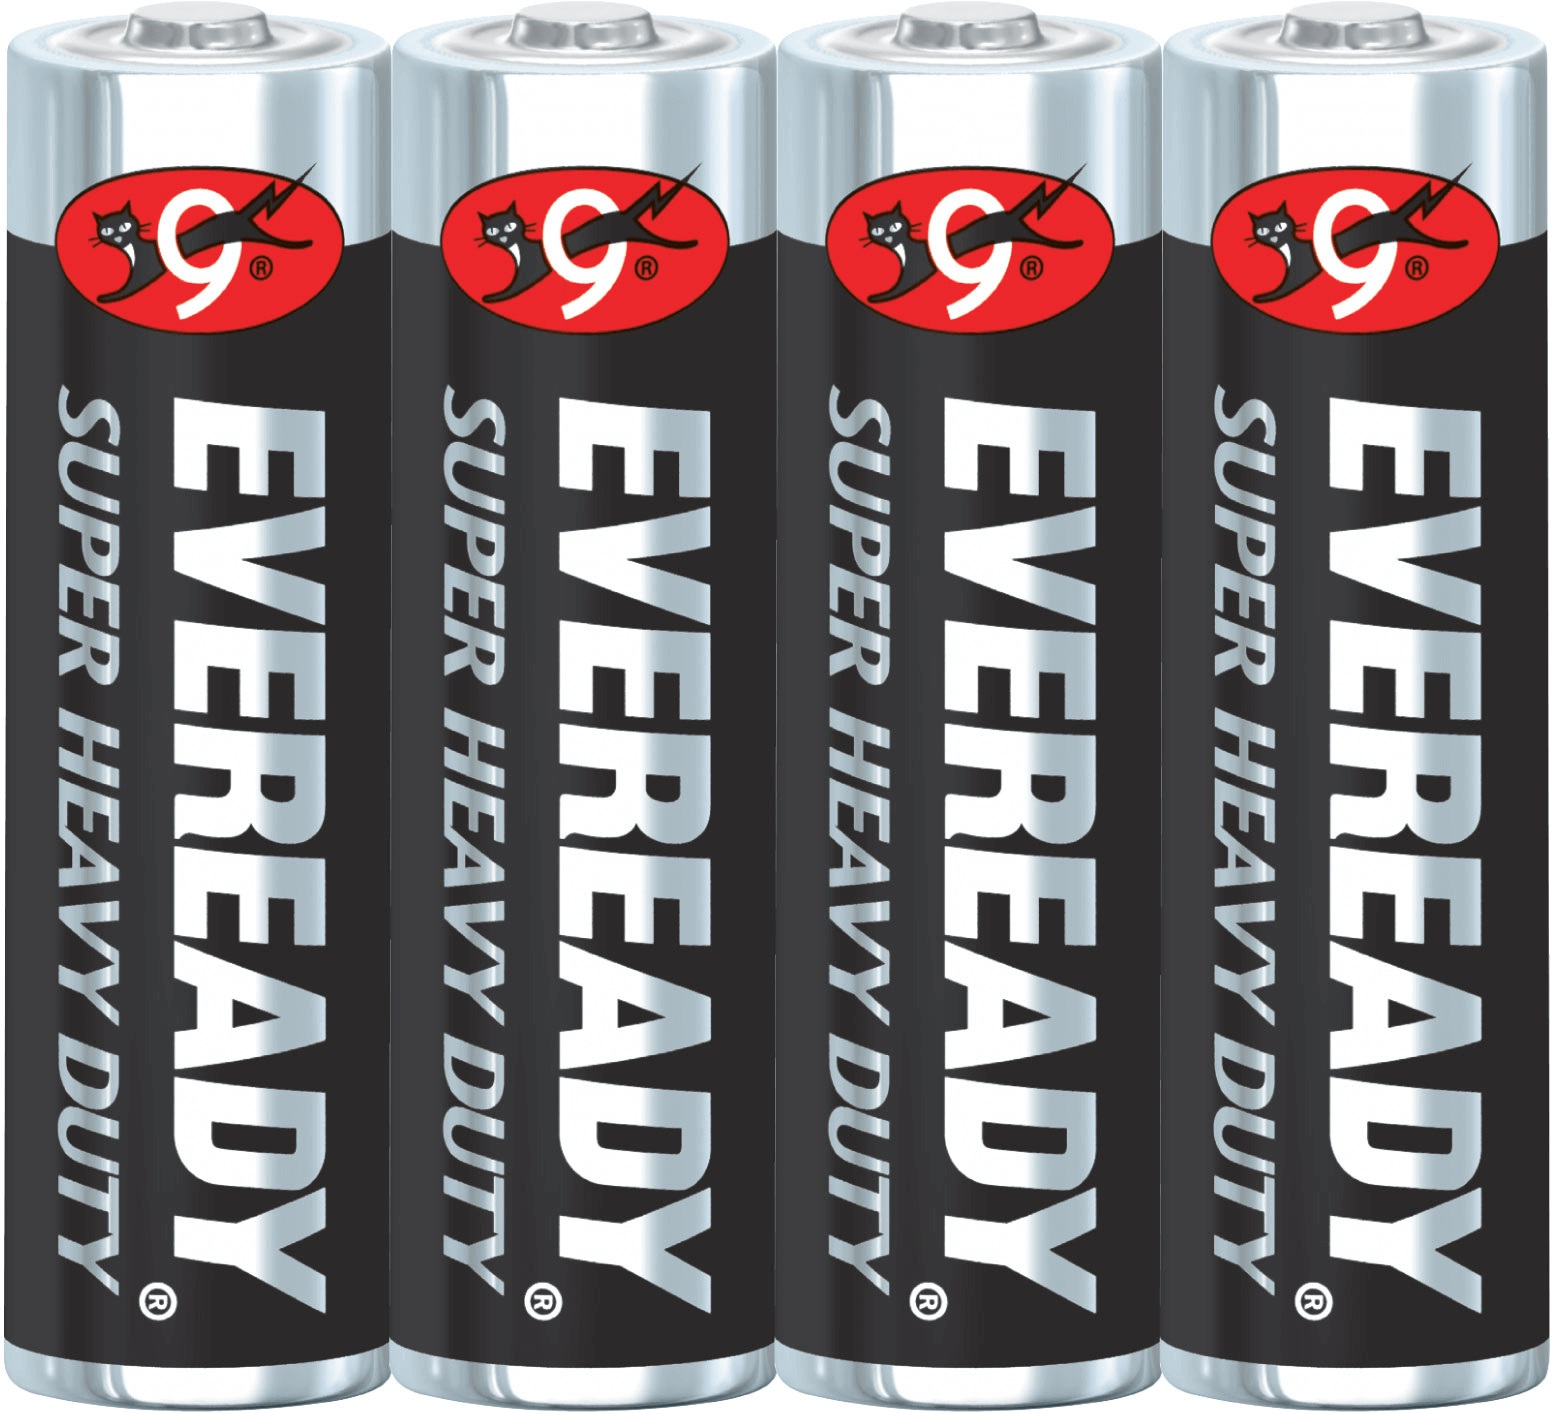Battery: (1159, 1, 1554, 1414), (383, 1, 778, 1411), (768, 1, 1161, 1411), (1, 1, 394, 1411)
